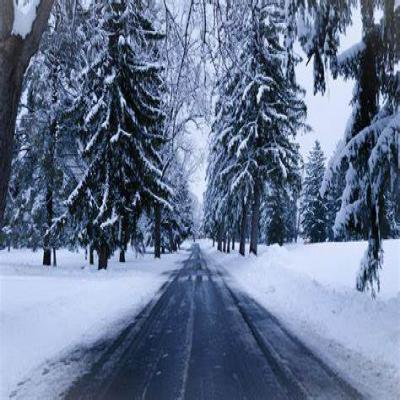iced-road: (66, 245, 355, 399)
